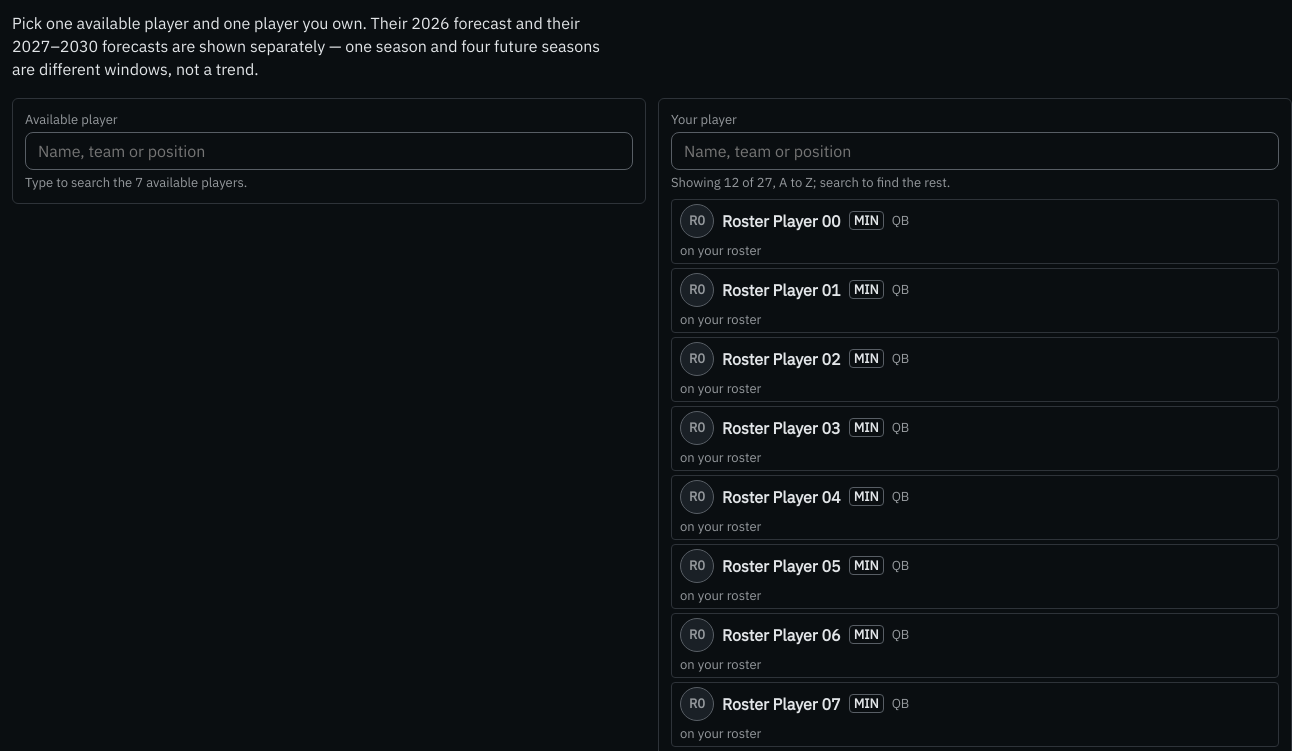
it: RosterComparison — choosing two players › tells the truth when the roster list is capped and still finds every roster player by search
Expected: the text "Showing 12 of 27, A to Z; search to find the rest." is shown, [671,174,950,191]
Type "player 26" into the search field labelled "Your player". click: (975, 151)
box: [671,132,1279,170]
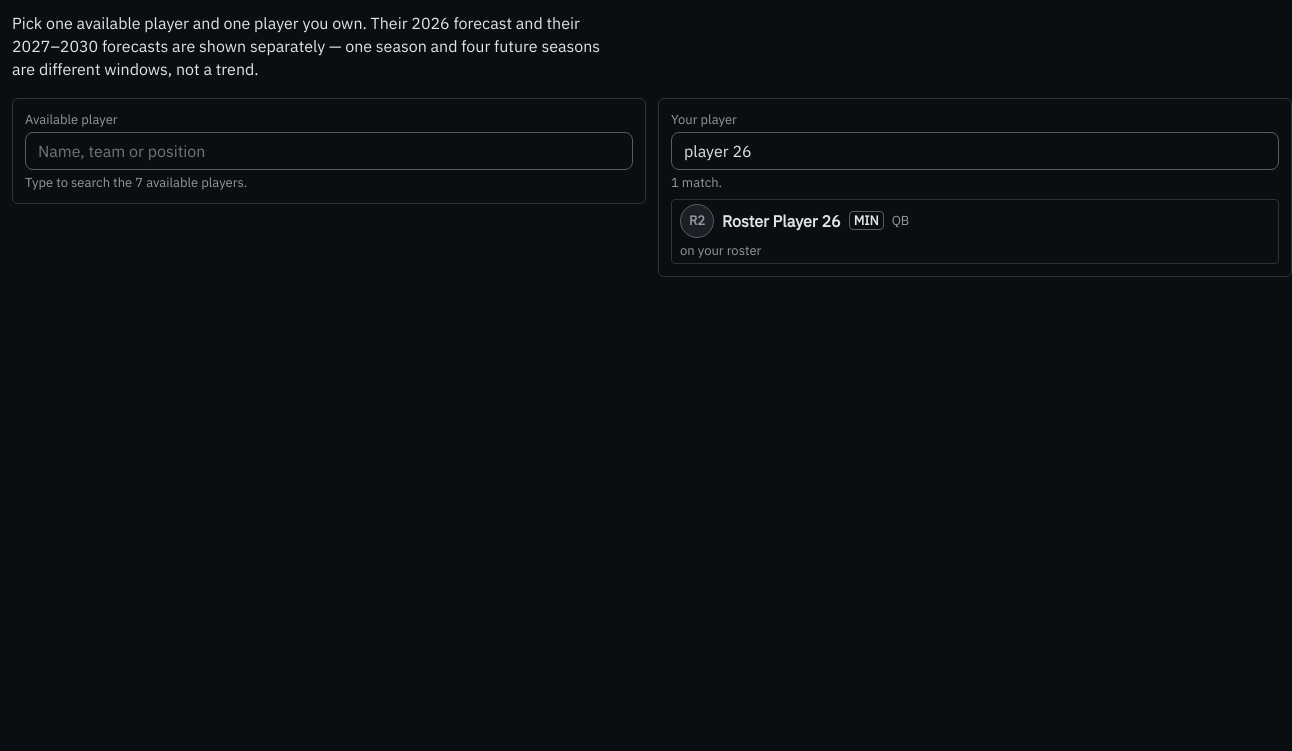
Now the button with aria-label "Choose Roster Player 26" is shown, box [671,199,1279,264]
Now the text "1 match." is shown, box [671,174,722,191]
